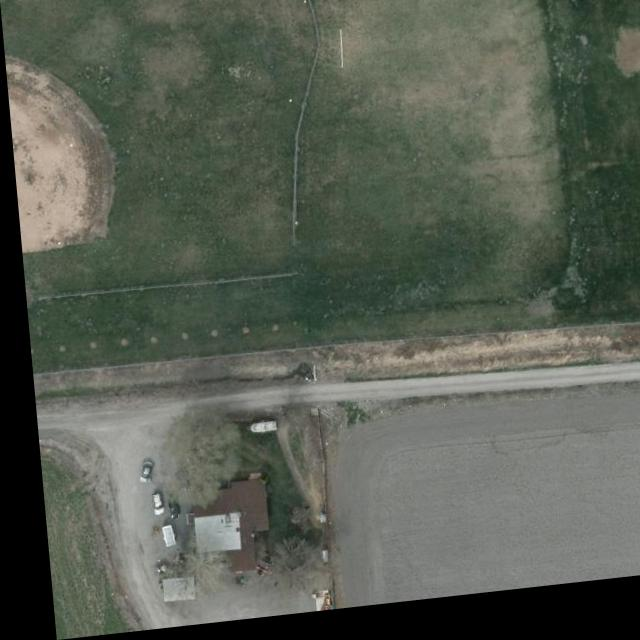vehicle: (130, 462, 146, 489), (166, 472, 183, 496), (157, 496, 171, 522), (143, 496, 155, 519)
